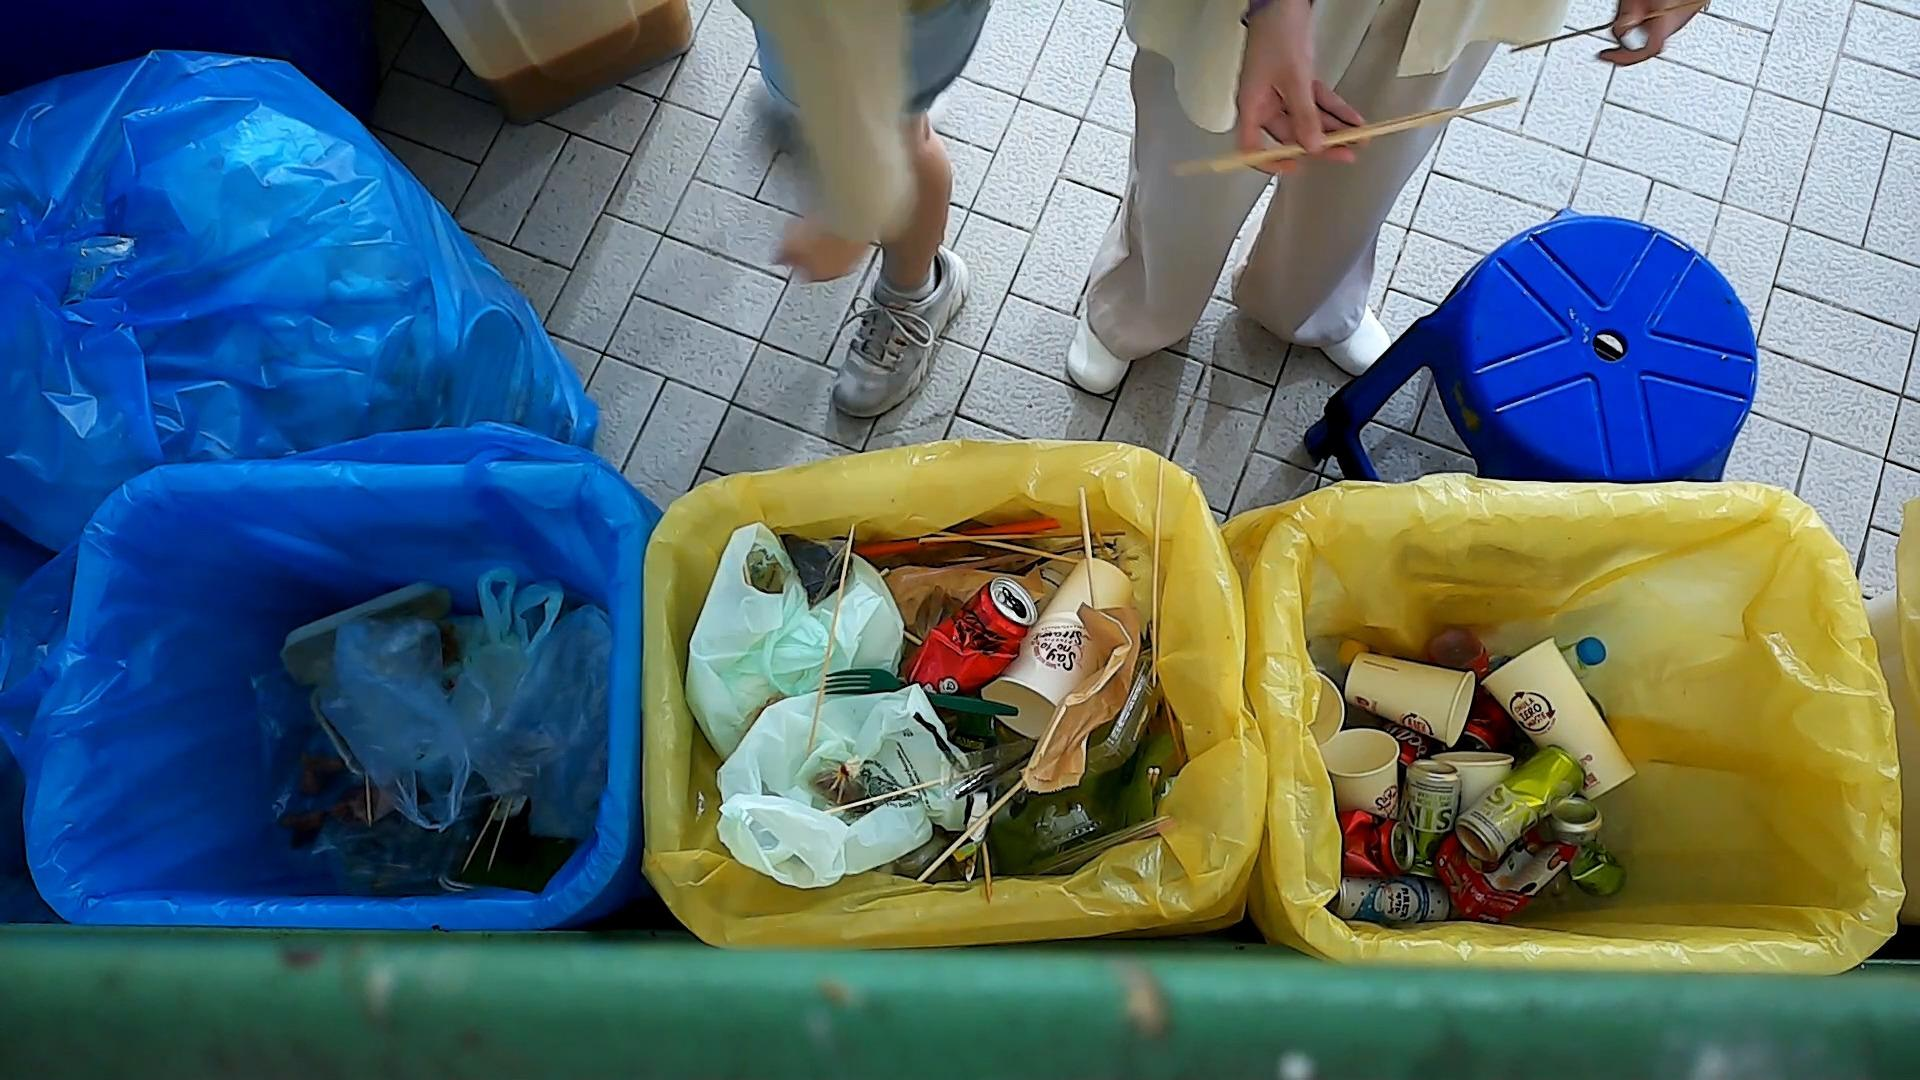can: (903, 571, 1040, 703), (1451, 740, 1590, 868), (1544, 793, 1633, 902), (1396, 753, 1462, 882), (1331, 873, 1452, 927), (1335, 804, 1419, 881)
filled plastic bag: (679, 517, 914, 760), (305, 605, 485, 841)
paper bag: (1019, 603, 1146, 798), (886, 559, 1052, 644)
plastic bag: (709, 683, 982, 897), (419, 599, 617, 845)
plastic cutlery: (820, 665, 1023, 723)
snack packaging: (1431, 823, 1580, 924)
sticks: (1164, 90, 1526, 182), (802, 521, 860, 761), (913, 774, 1029, 886), (1505, 0, 1712, 57), (820, 766, 986, 818), (931, 527, 1080, 567), (915, 525, 1131, 547), (1149, 455, 1167, 690), (459, 793, 506, 876), (1075, 481, 1100, 608), (485, 796, 516, 876)
straw: (901, 550, 1035, 584)
zero waste cup: (980, 551, 1137, 745), (1477, 633, 1639, 804), (1341, 646, 1480, 749), (1319, 725, 1404, 822)
